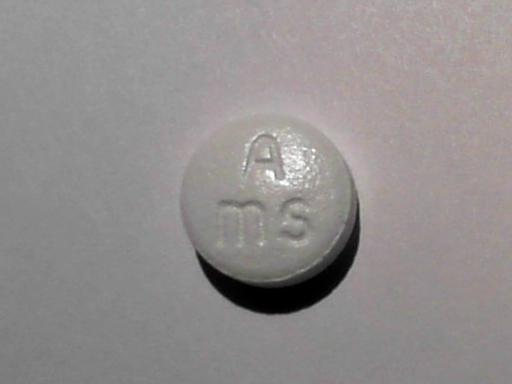Pill: (177, 109, 363, 293)
